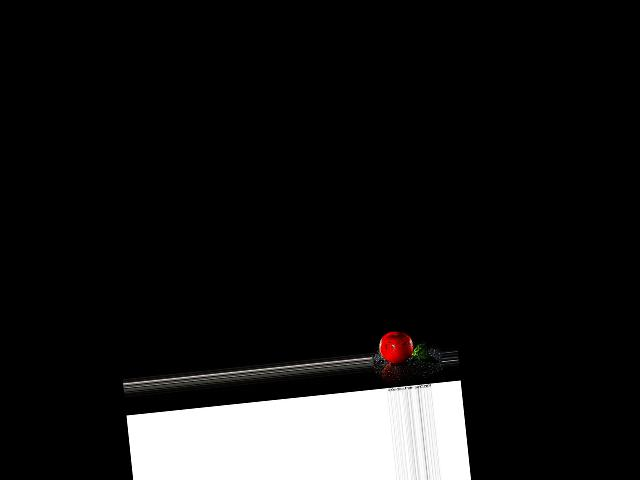tomato: (378, 329, 415, 364)
